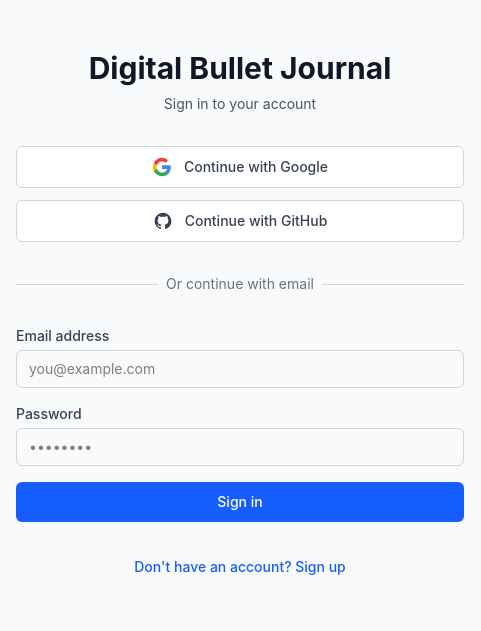
SignInPage › displays error when credentials are invalid
Type "wrong@example.com" into the field labelled "Email address" at (240, 369), box [16,350,464,388]
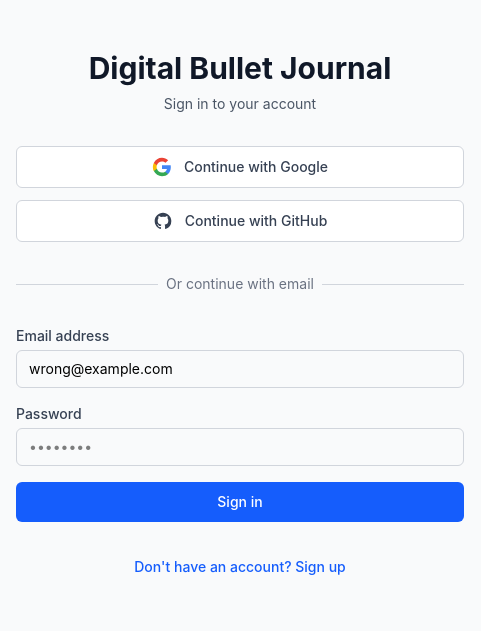
Type "wrongpassword" into the password field labelled "Password" at (240, 447), box [16,428,464,466]
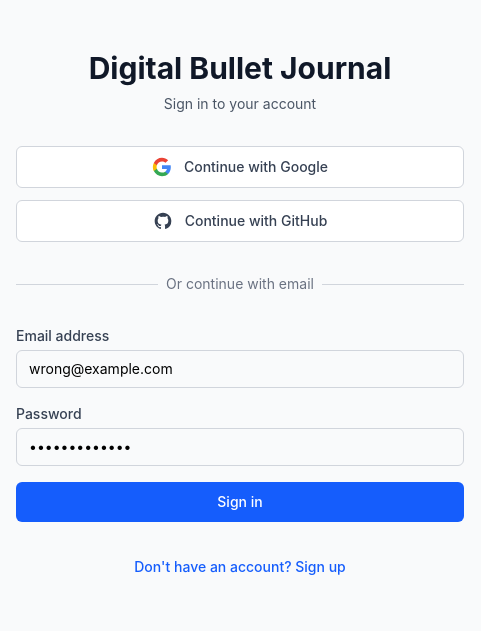
Click the button "Sign in" at (240, 502), box [16,482,464,522]
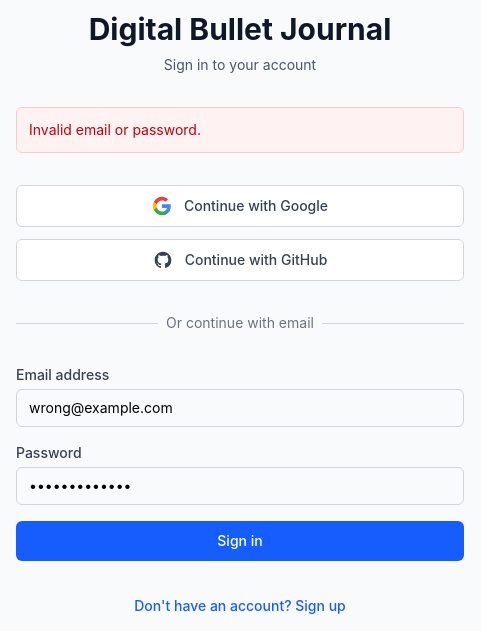
Check: the text "Invalid email or password." is shown, box [29,121,201,138]
